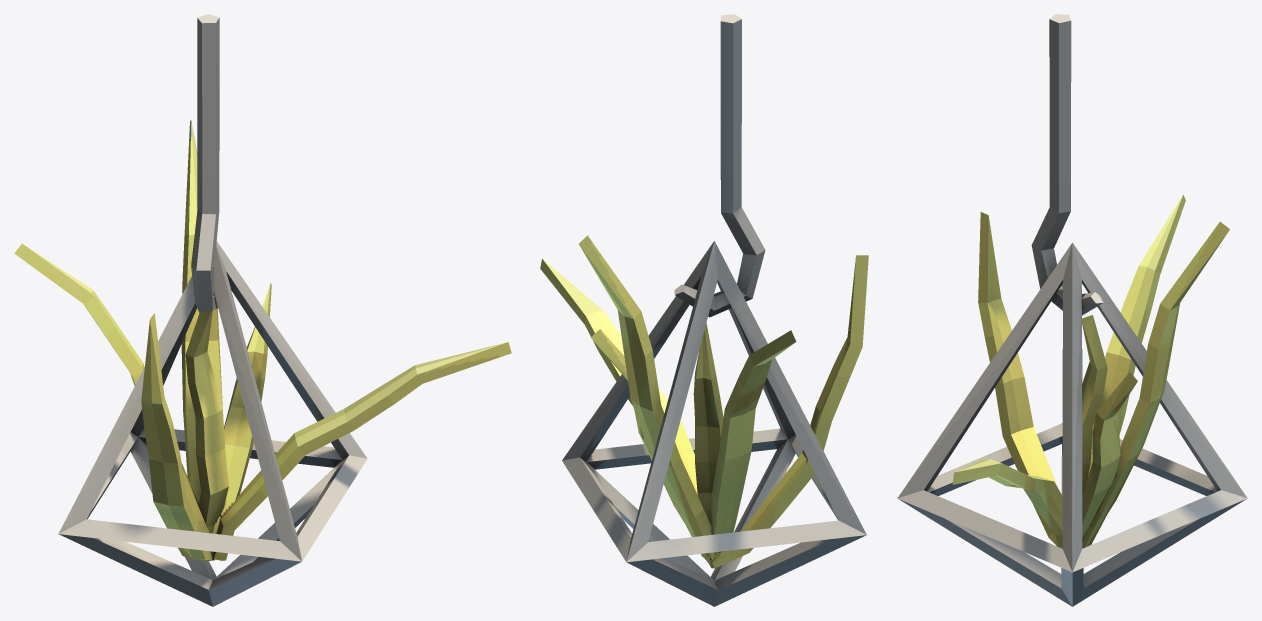
The model's file is PUSHILIN_air_plant.obj.
The picture shows the model from 3 angles, left to right: view 1: azimuth 30°, elevation 25°; view 2: azimuth 150°, elevation 25°; view 3: azimuth 270°, elevation 25°; orthographic projection.
Visible parts, largest first — view 1: air_plant; view 2: air_plant; view 3: air_plant.
Boxes of the visible parts, box(x1,y1,x2,y2) form: air_plant: box(14, 14, 511, 606); air_plant: box(540, 14, 868, 606); air_plant: box(897, 14, 1247, 606).
Size of the model in its own units: 1.92 by 2.78 by 1.51.
Materials: 1 (1 with a texture image).
